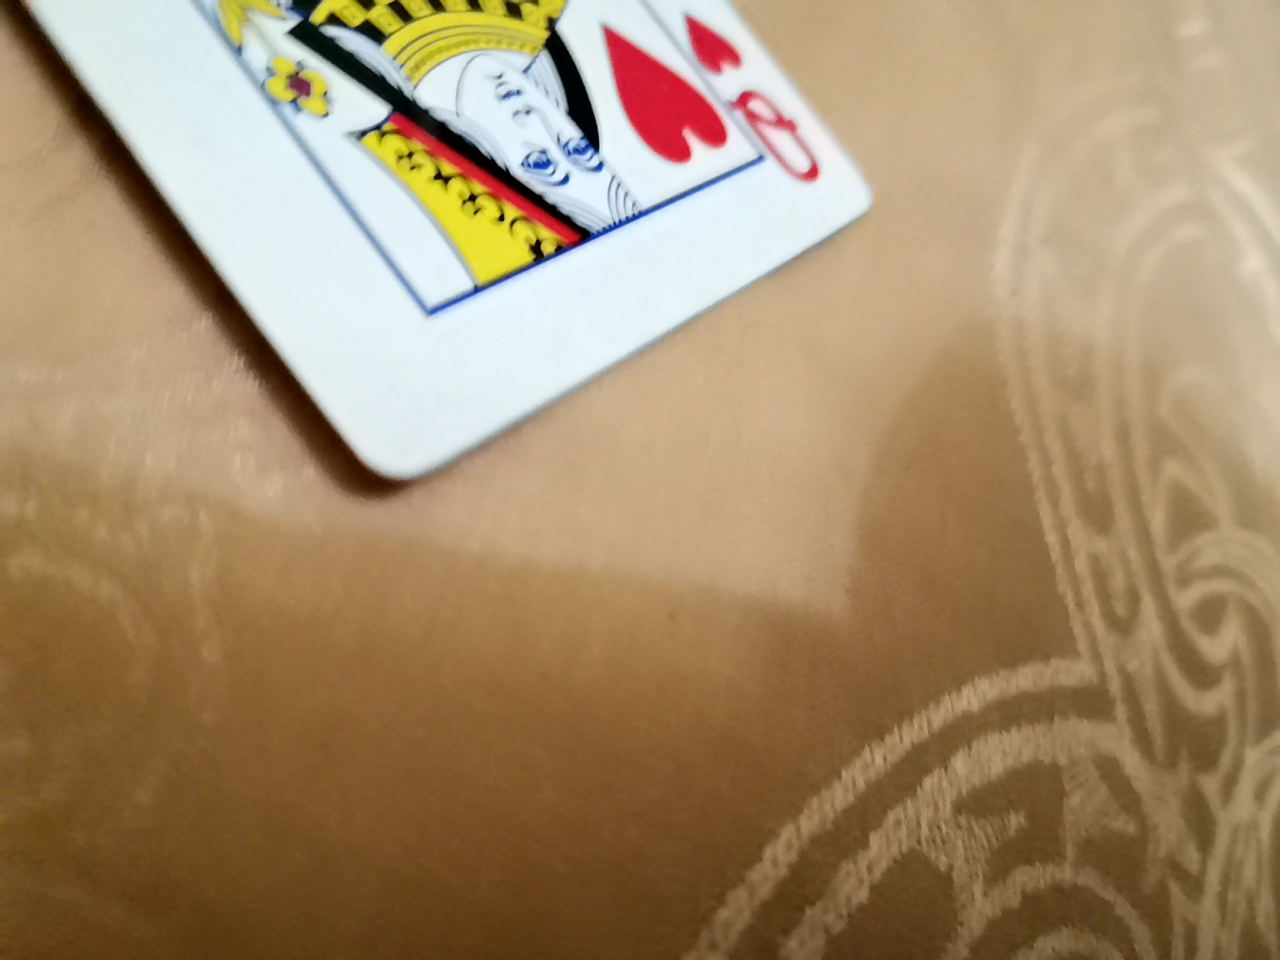hx q: (5, 5, 888, 467)
